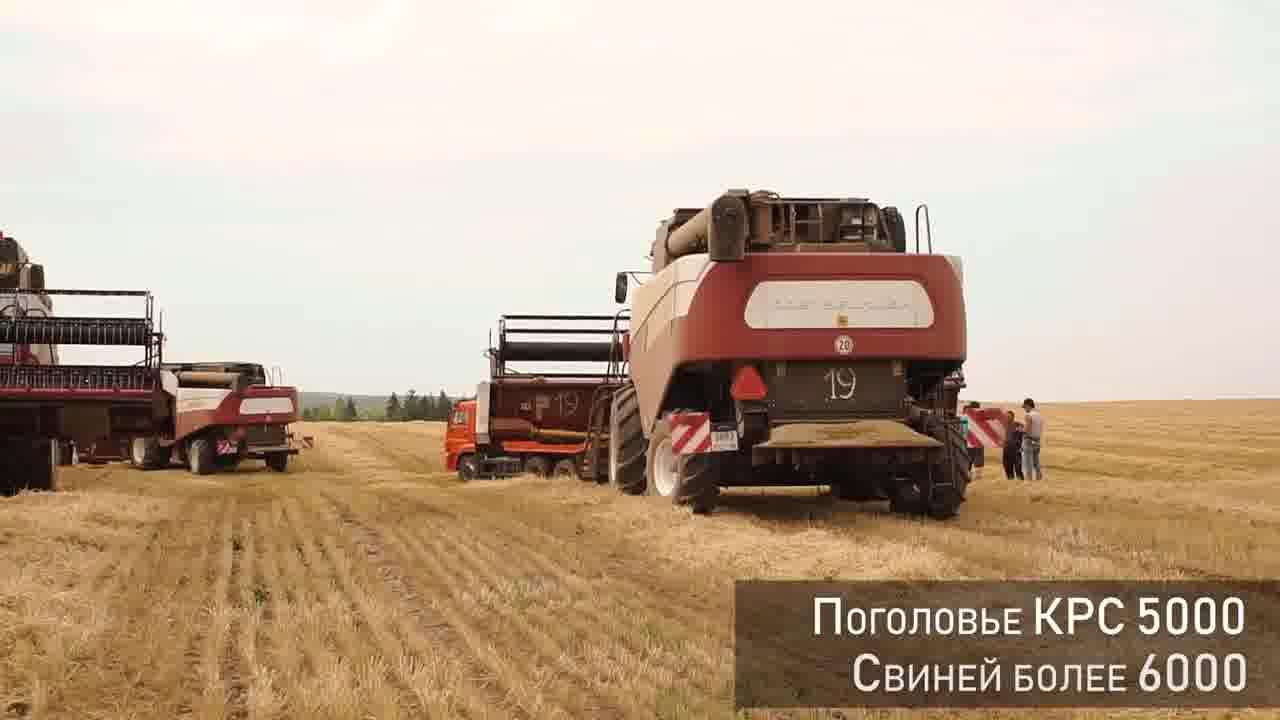combine harvester: (584, 191, 984, 520), (0, 227, 176, 495), (124, 342, 314, 475)
